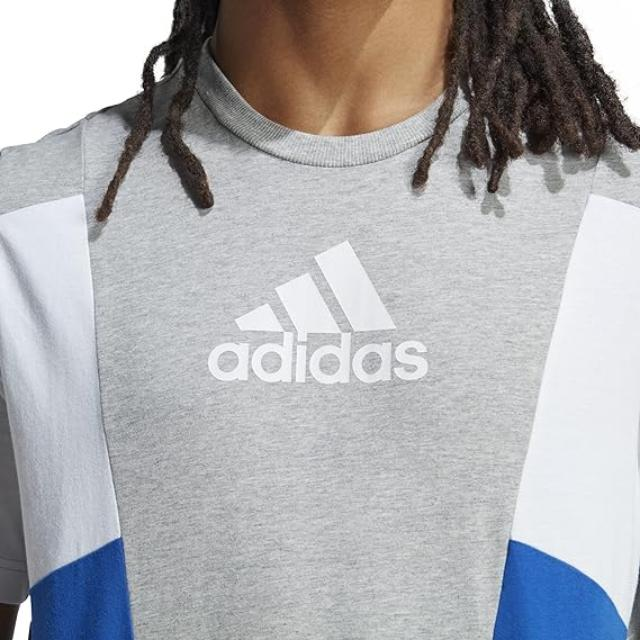Adidas: (202, 236, 436, 388), (224, 232, 423, 334), (203, 335, 441, 393)
